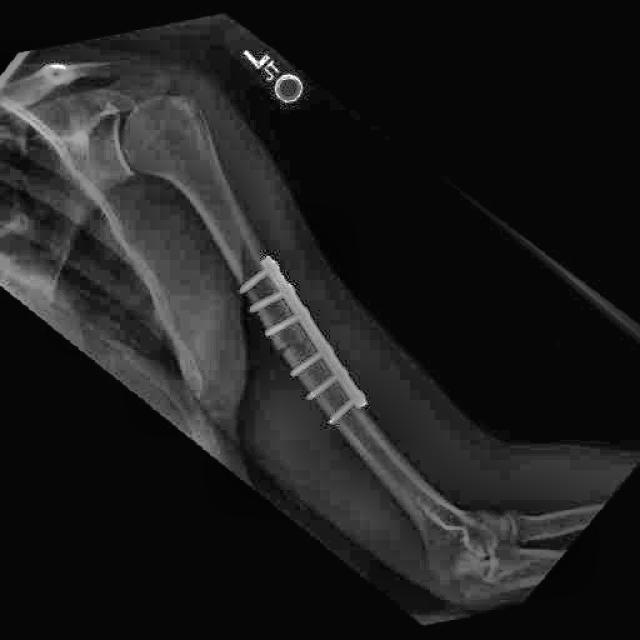humerus: (261, 327, 315, 377)
